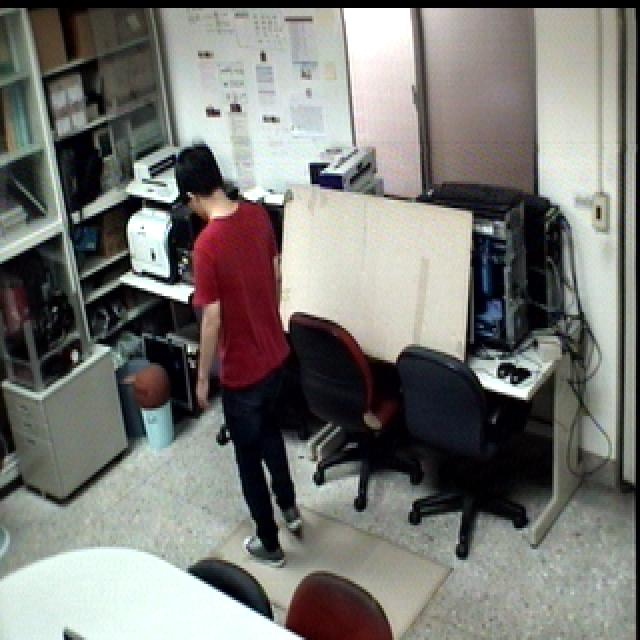stand: (167, 138, 307, 568)
